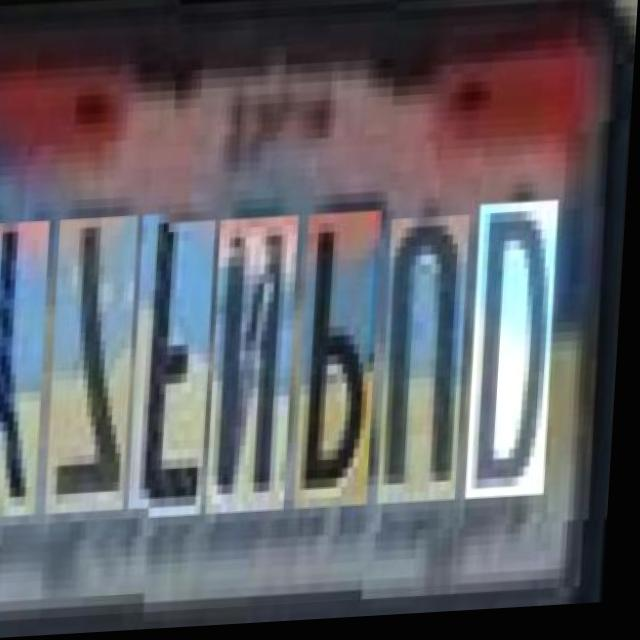7: (49, 236, 143, 534)
d: (470, 206, 564, 505)
f: (132, 232, 221, 530)
n: (210, 228, 304, 526)
p: (298, 224, 387, 522)
u: (383, 220, 474, 510)
y: (0, 240, 54, 537)
